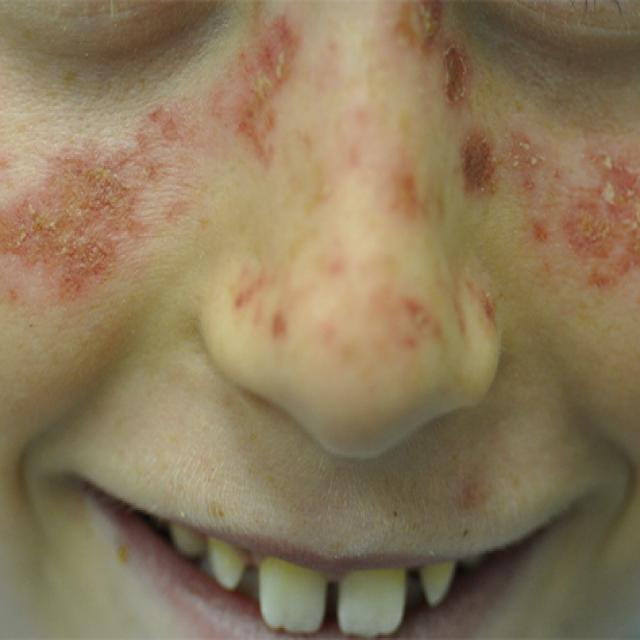lupus: (7, 7, 640, 296)
